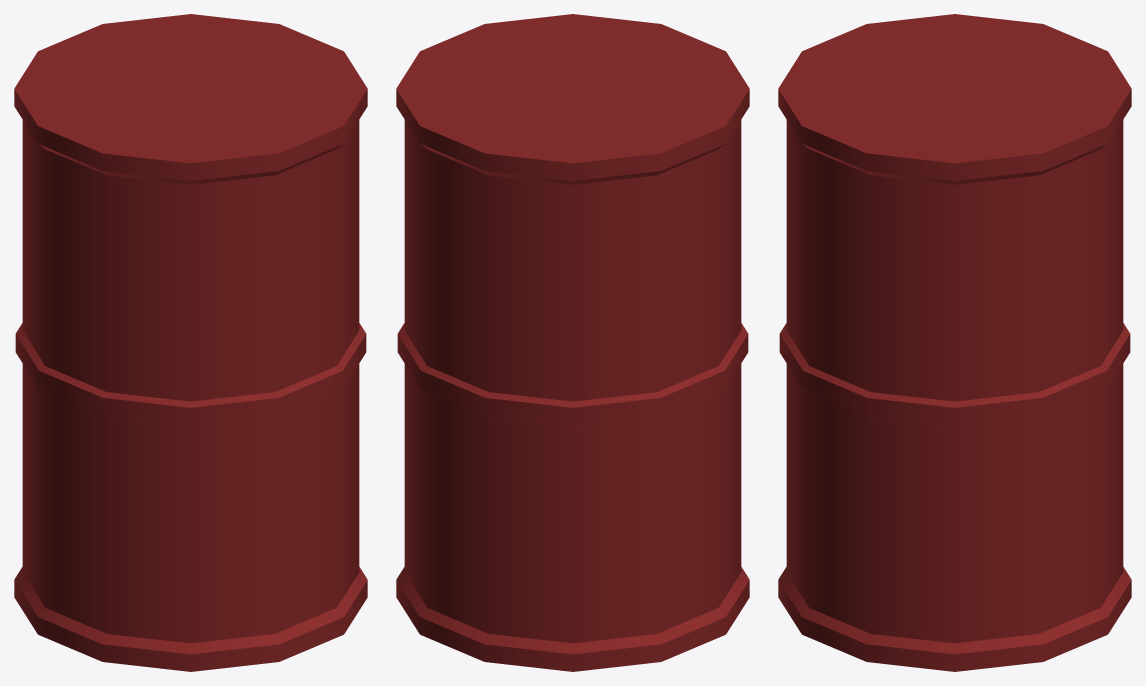
Rendered from barrel_01.fbx.
The picture shows the model from 3 angles, left to right: view 1: azimuth 30°, elevation 25°; view 2: azimuth 150°, elevation 25°; view 3: azimuth 270°, elevation 25°; orthographic projection.
Parts seen in each view (by area): view 1: barrel_01; view 2: barrel_01; view 3: barrel_01.
Part boxes in pixels (<box>): barrel_01: <box>14,14,367,671</box>; barrel_01: <box>396,14,749,671</box>; barrel_01: <box>778,14,1131,671</box>.
Size of the model in its own units: 108 by 171 by 108.
